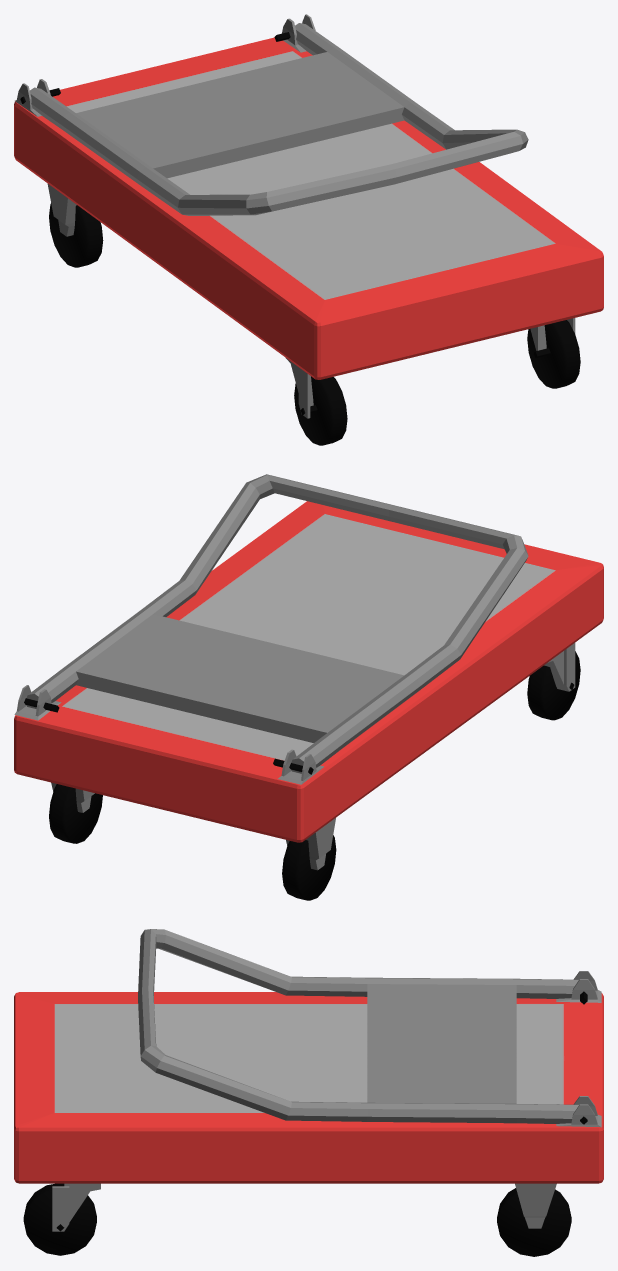
File: B_Trolley.fbx
3 renders of one model, top to bottom at view 1: azimuth 30°, elevation 25°; view 2: azimuth 150°, elevation 25°; view 3: azimuth 270°, elevation 25°, orthographic. The views are drawn at different scales.
Parts seen in each view (by area): view 1: Trolley; view 2: Trolley; view 3: Trolley.
Part boxes in pixels (x1,y1,x2,y2): Trolley: [14, 14, 603, 445]; Trolley: [14, 474, 603, 900]; Trolley: [14, 929, 603, 1256].
Size of the model in its own units: 44.12 by 31.6 by 80.
3 materials, 1 textured.
